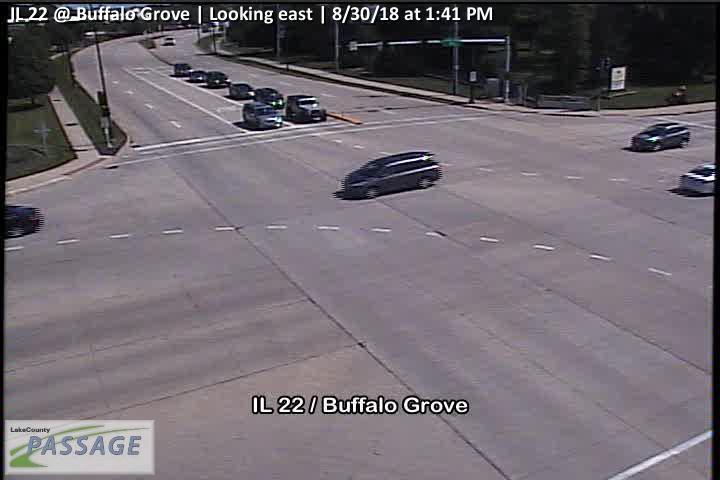SUV: (343, 150, 441, 199), (631, 122, 692, 151), (286, 94, 327, 122), (243, 101, 283, 129), (255, 87, 285, 109), (207, 71, 231, 87), (174, 62, 193, 76)
Sedan: (229, 83, 255, 99), (190, 70, 207, 81)
